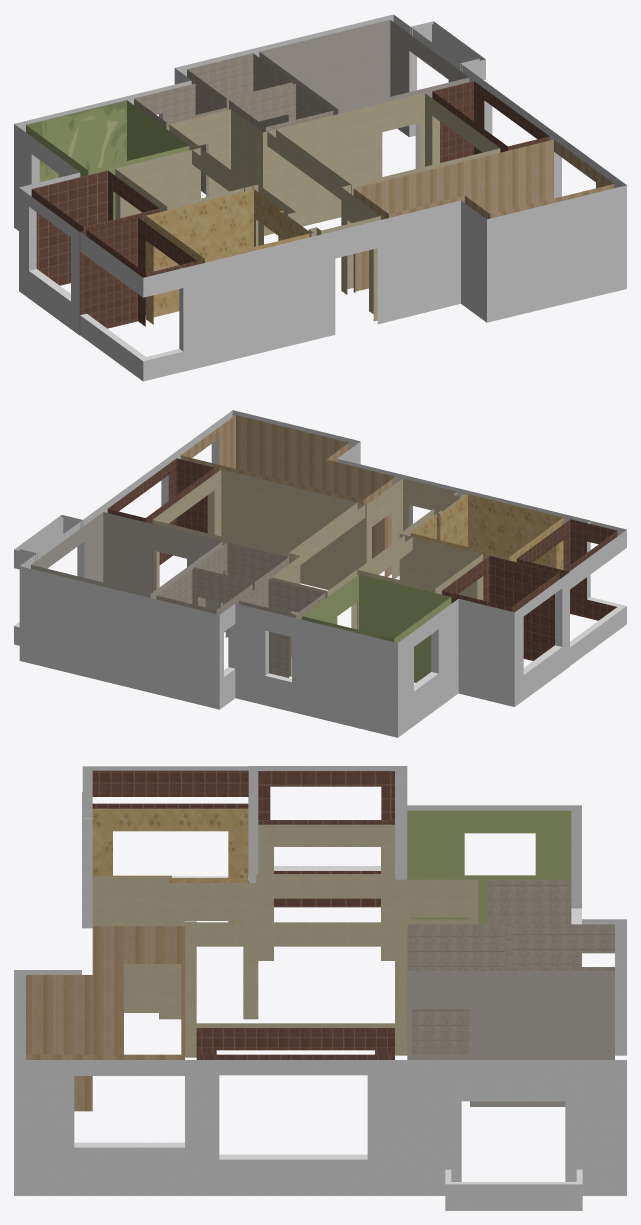
File: qiangbi.fbx
3 renders of one model, top to bottom at view 1: azimuth 30°, elevation 25°; view 2: azimuth 150°, elevation 25°; view 3: azimuth 270°, elevation 25°, orthographic. The views are drawn at different scales.
Visible parts, largest first — view 1: qiangbi; view 2: qiangbi; view 3: qiangbi.
Boxes of the visible parts, box(x1,y1,x2,y2) form: qiangbi: box(14, 14, 626, 381); qiangbi: box(14, 410, 626, 737); qiangbi: box(14, 766, 626, 1210).
Size of the model in its own units: 1457 by 300 by 1223.
